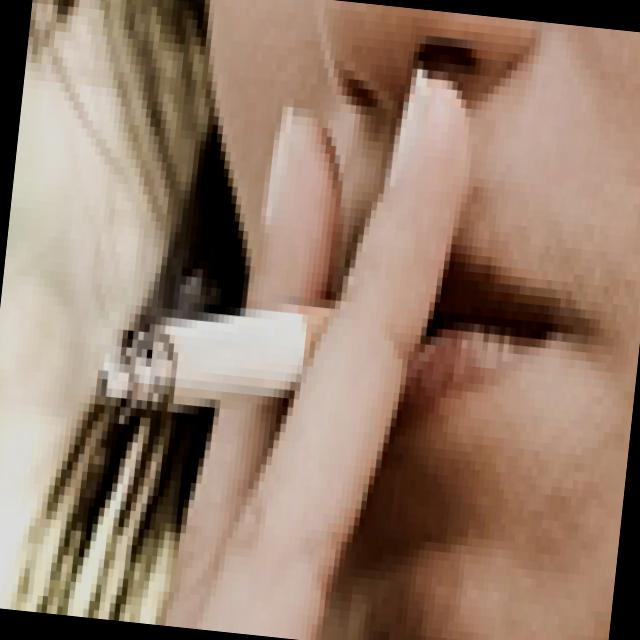smoke: (95, 248, 396, 444)
